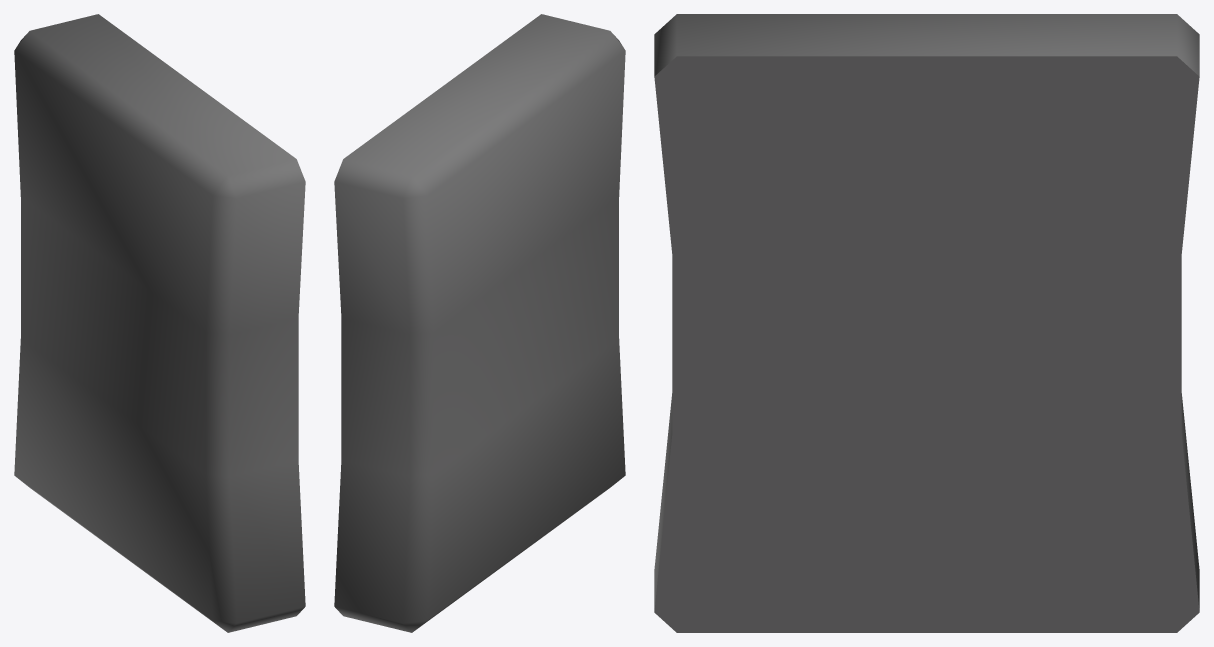
File: Table_2_1.glb
3 renders of one model, left to right at view 1: azimuth 30°, elevation 25°; view 2: azimuth 150°, elevation 25°; view 3: azimuth 270°, elevation 25°, orthographic. The views are drawn at different scales.
Parts seen in each view (by area): view 1: Table_2_1; view 2: Table_2_1; view 3: Table_2_1.
Boxes of the visible parts, x1,y1,x2,y2 form: Table_2_1: (14, 14, 305, 632); Table_2_1: (334, 14, 625, 632); Table_2_1: (654, 14, 1199, 632).
Size of the model in its own units: 0.0894 by 0.4635 by 0.3972.
Materials: 1 (1 with a texture image).
